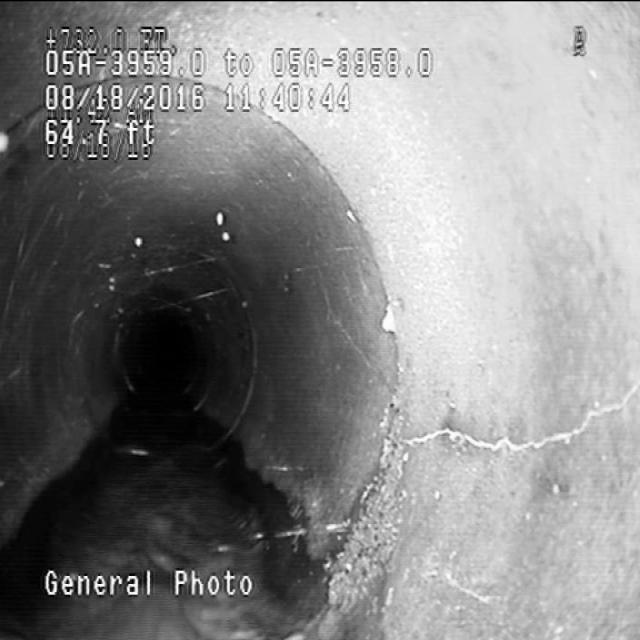Crack: (402, 358, 622, 488)
